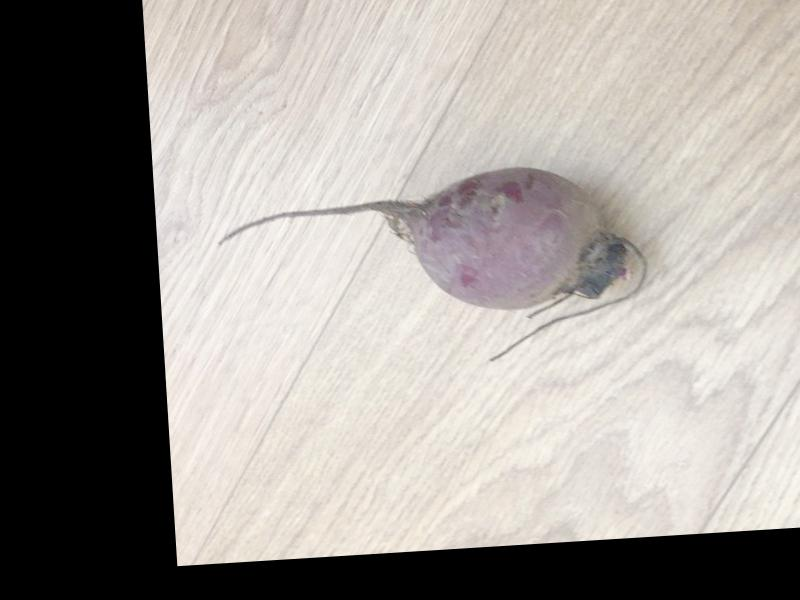Beet: (213, 158, 651, 377)
